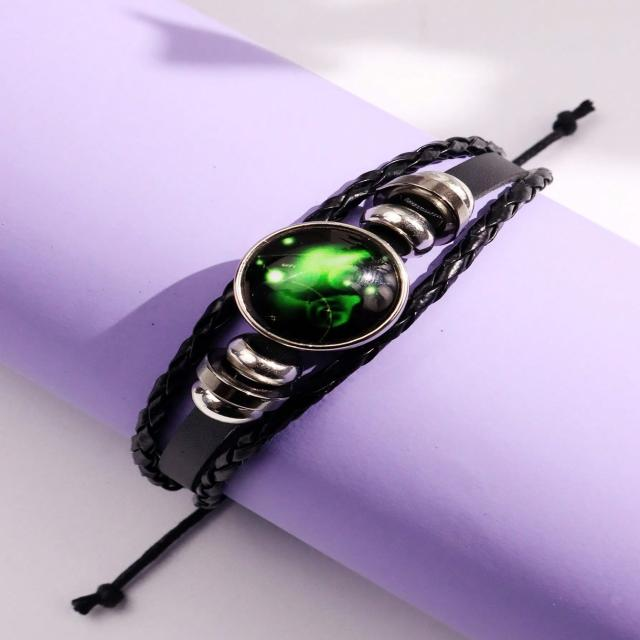bracelet: (30, 27, 613, 640)
